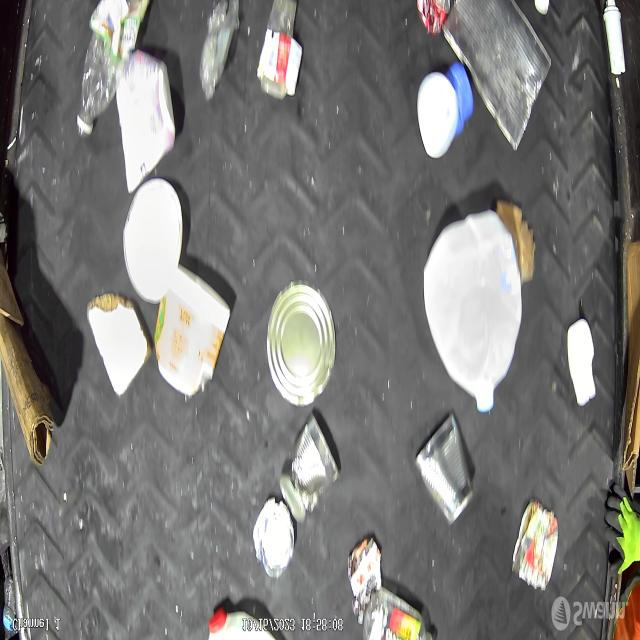can: (445, 0, 553, 153), (266, 282, 336, 406), (414, 412, 475, 527), (279, 412, 341, 524), (512, 500, 558, 591), (253, 498, 295, 579), (416, 0, 450, 38)
milk_jug: (423, 210, 522, 414), (208, 609, 278, 640)
plastic_bottle: (76, 0, 150, 139), (362, 586, 432, 640), (262, 0, 298, 100), (3, 576, 16, 640)
